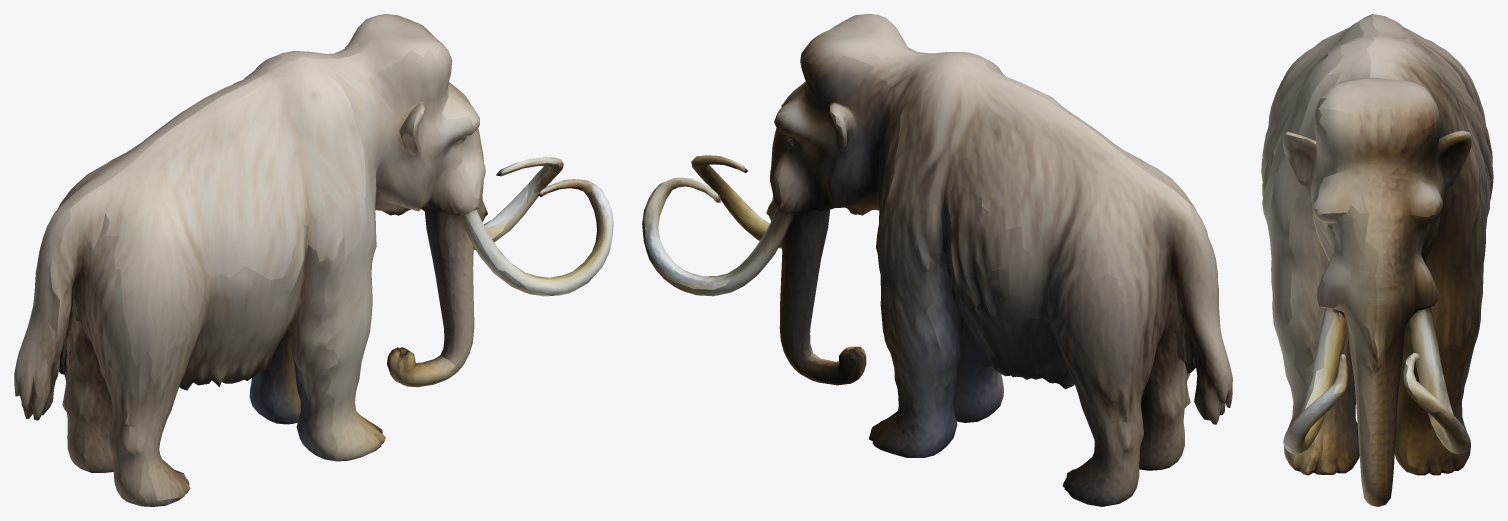
The model's file is mammoth2.glb.
The picture shows the model from 3 angles, left to right: view 1: azimuth 30°, elevation 25°; view 2: azimuth 150°, elevation 25°; view 3: azimuth 270°, elevation 25°; orthographic projection. The views are drawn at different scales.
Visible parts, largest first — view 1: world; view 2: world; view 3: world.
Part boxes in pixels (box(x1,y1,x2,y2)): world: box(14, 14, 613, 506); world: box(642, 14, 1232, 506); world: box(1261, 14, 1493, 506).
Size of the model in its own units: 0.9894 by 0.6498 by 0.3244.
Materials: 1 (1 with a texture image).
